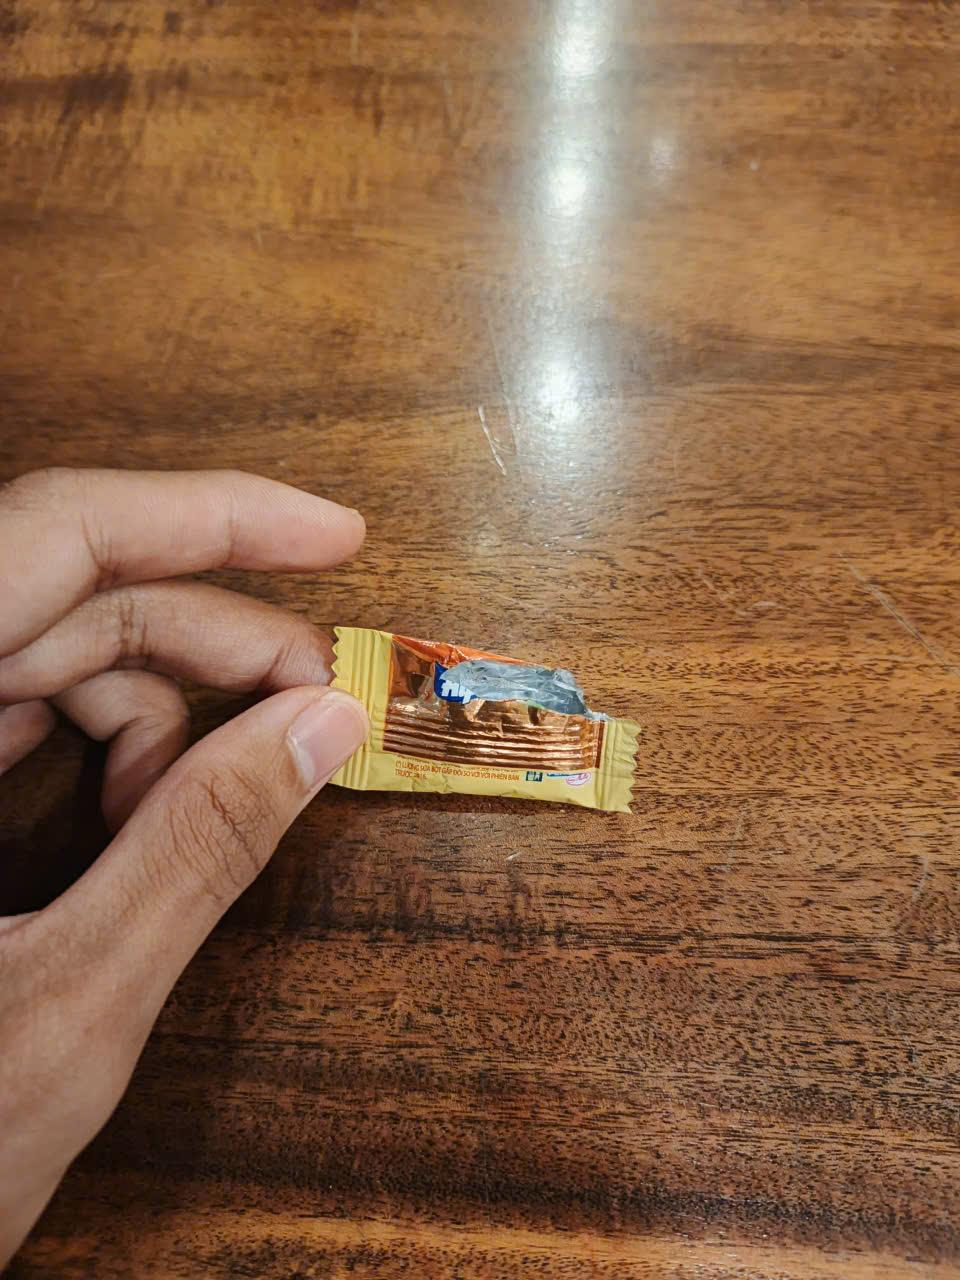Con lai: (318, 626, 644, 818)
